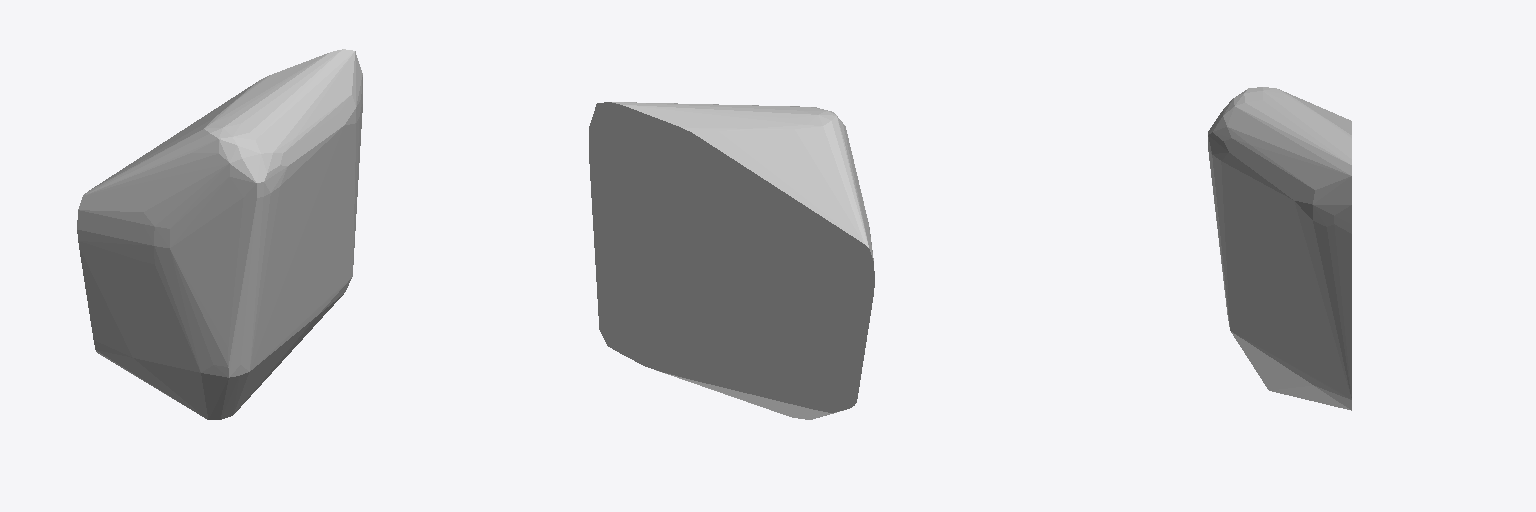
Rendered from sofa_collision_4.obj.
The picture shows the model from 3 angles: view 1: azimuth 30°, elevation 25°; view 2: azimuth 150°, elevation 25°; view 3: azimuth 270°, elevation 25°; orthographic projection.
Size of the model in its own units: 147 by 147 by 63.82.